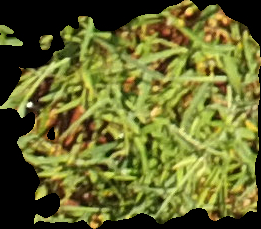grass: (1, 1, 260, 228)
